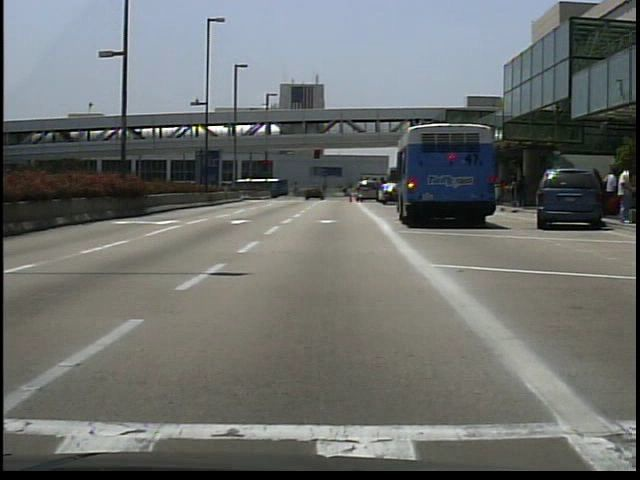person: (617, 163, 635, 222), (515, 172, 528, 208), (603, 168, 618, 191), (342, 184, 353, 199), (323, 184, 332, 200)
